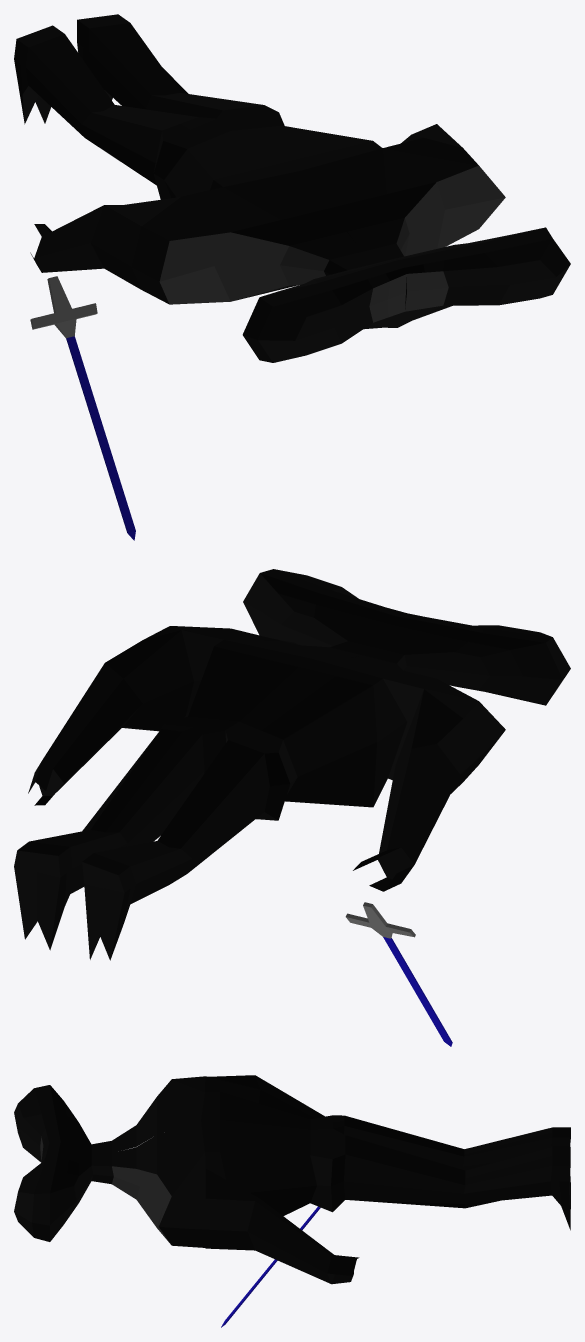
Rendered from Swordsman.obj.
3 views of the same model, one above another, from view 1: azimuth 30°, elevation 25°; view 2: azimuth 150°, elevation 25°; view 3: azimuth 270°, elevation 25° (orthographic). The views are drawn at different scales.
Parts seen in each view (by area): view 1: Cube, Plane; view 2: Cube, Plane; view 3: Cube, Plane.
Boxes of the visible parts, box(x1,y1,x2,y2) form: Cube: box(14, 14, 570, 362); Plane: box(30, 276, 135, 540); Cube: box(14, 569, 570, 960); Plane: box(345, 902, 452, 1046); Cube: box(14, 1075, 570, 1284); Plane: box(221, 1206, 320, 1327).
Bounding box in the file's own units: 0.9999 × 0.858 × 1.63.
